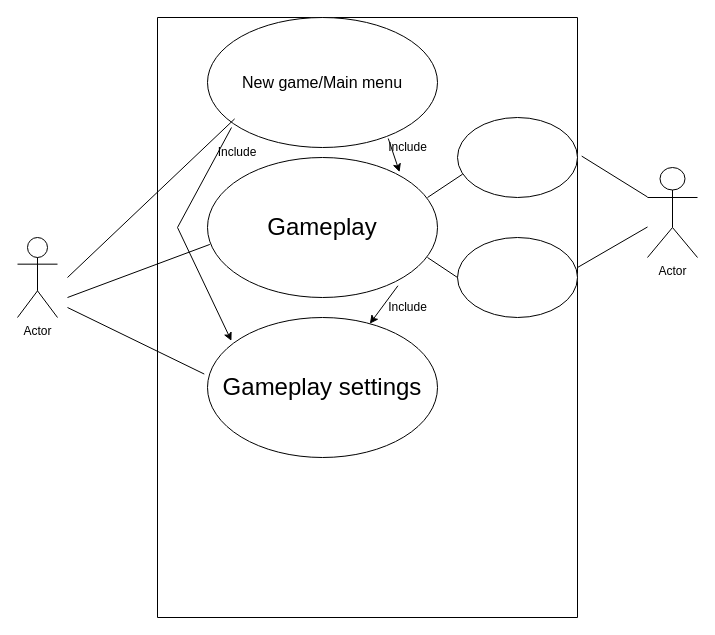
This 715x635 diagram has some shape labels left out. The centre of each missing label's shape, as x and y in pixels:
Dining phase: pixel 517 277
Renovation phase: pixel 517 157
